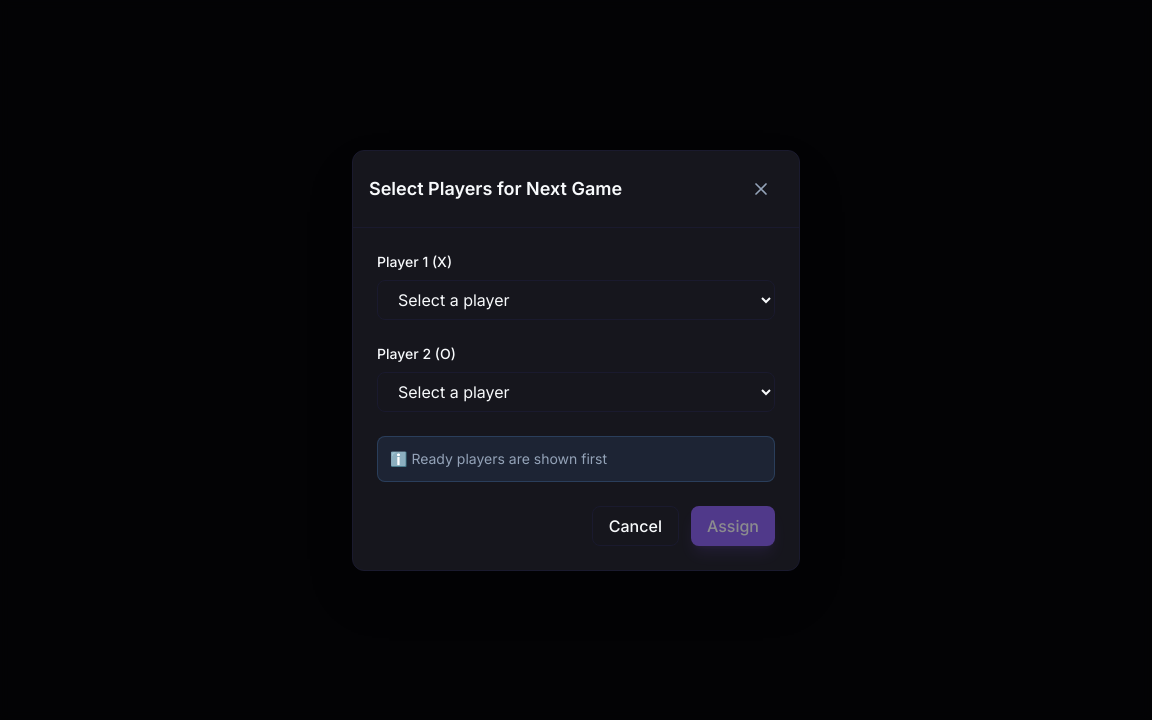
PlayerAssignmentModal › should validate that different players are selected
Select "✅ Alice" in the dropdown labelled "Player 1 (X)" at point(576, 300), box [377,280,775,320]
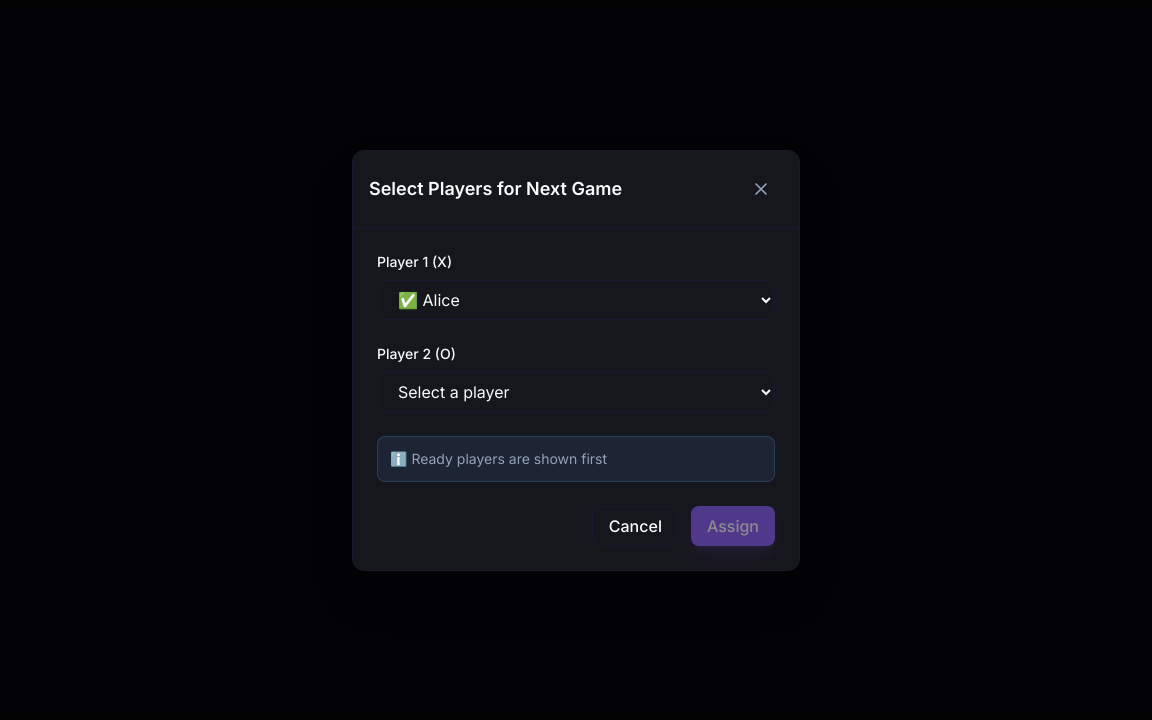
Select "✅ Alice" in the dropdown labelled "Player 2 (O)" at point(576, 392), box [377,372,775,412]
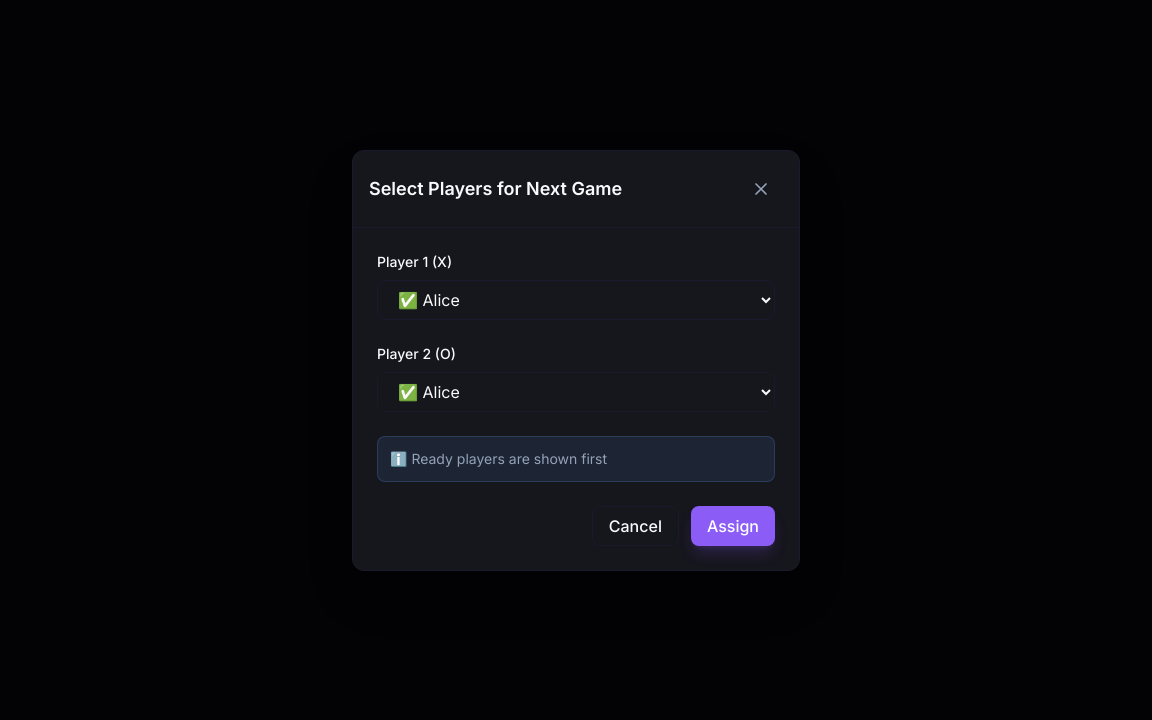
Click the button "Assign".
click(733, 526)  # box [691,506,775,546]
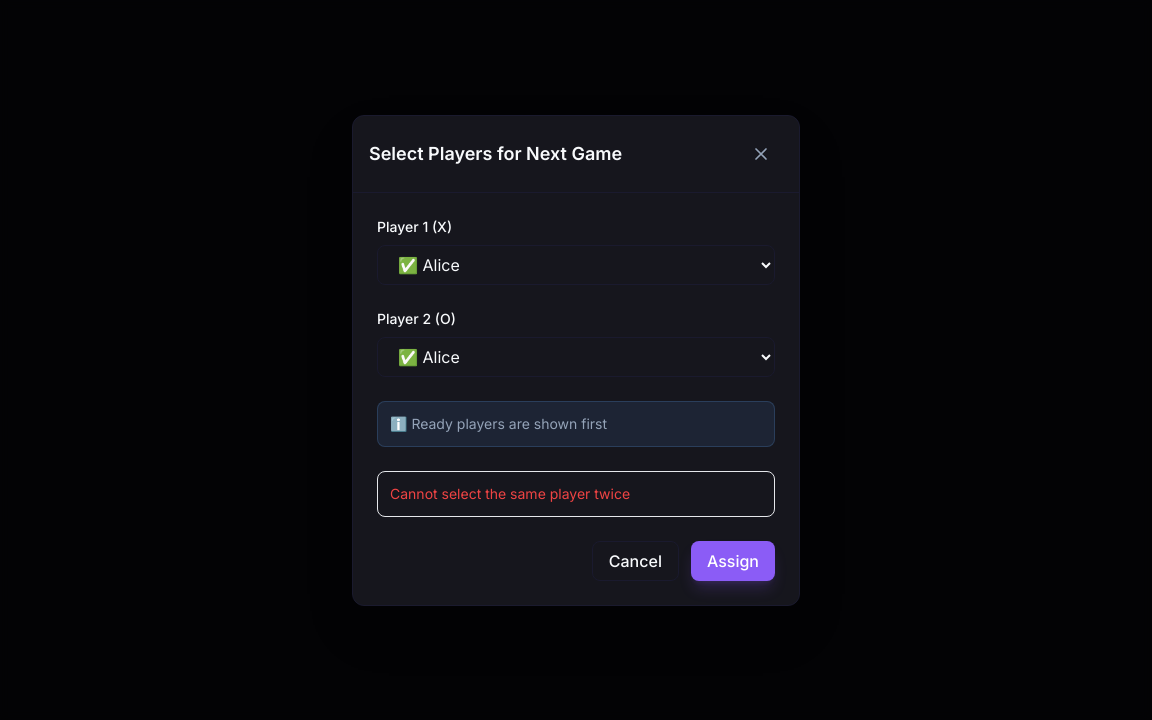
Now the text "Cannot select the same player twice" is shown, box [390,484,630,502]
